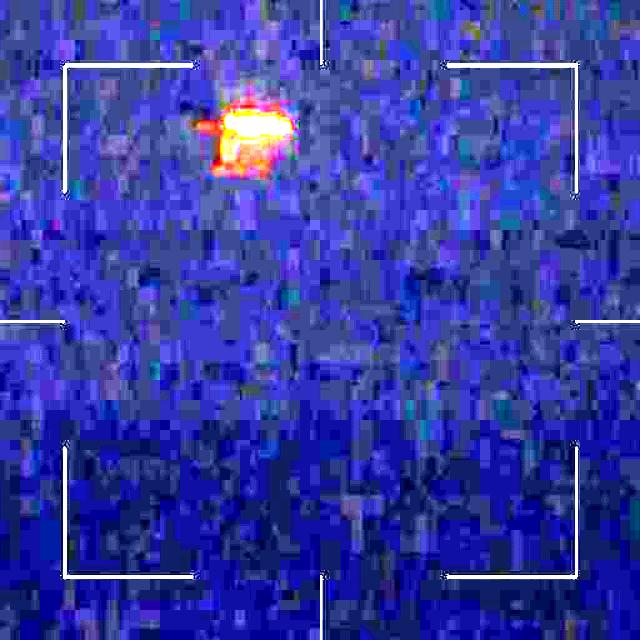bird: (210, 102, 295, 166)
